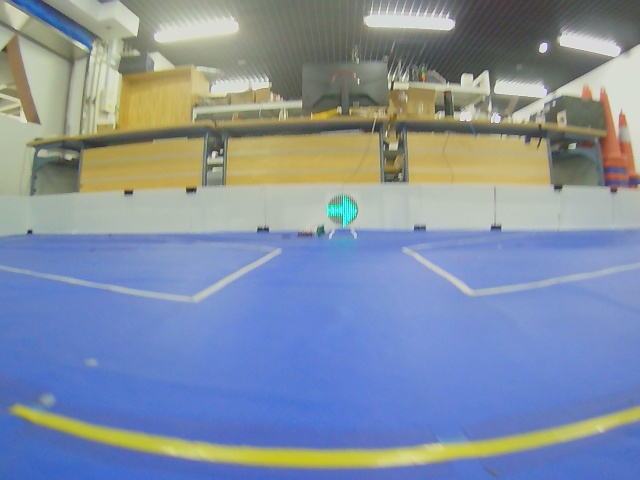right_green: (326, 195, 358, 228)
